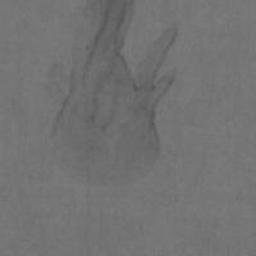Water spot: (52, 0, 177, 182)
